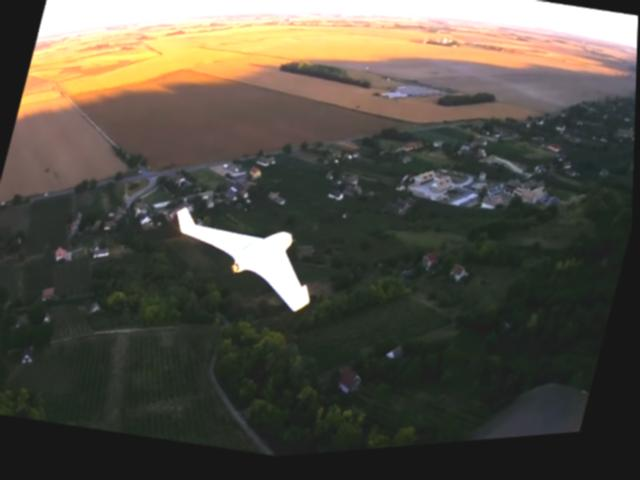plane: (158, 199, 332, 328)
